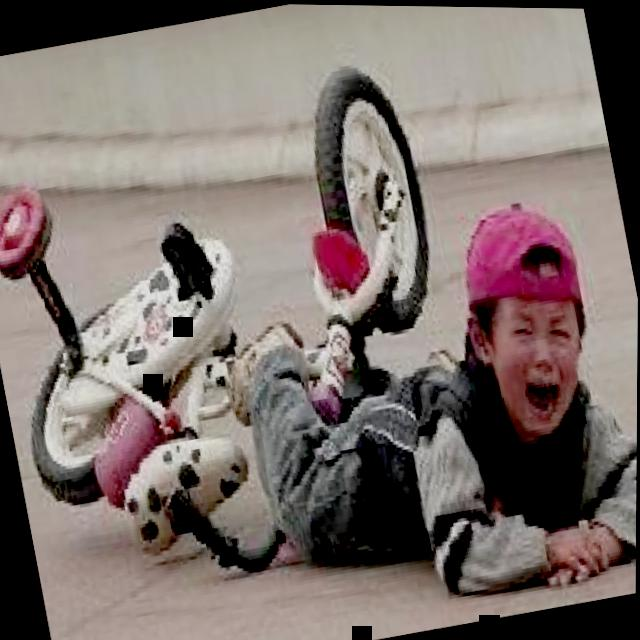Fall-Detected: (194, 148, 639, 640)
